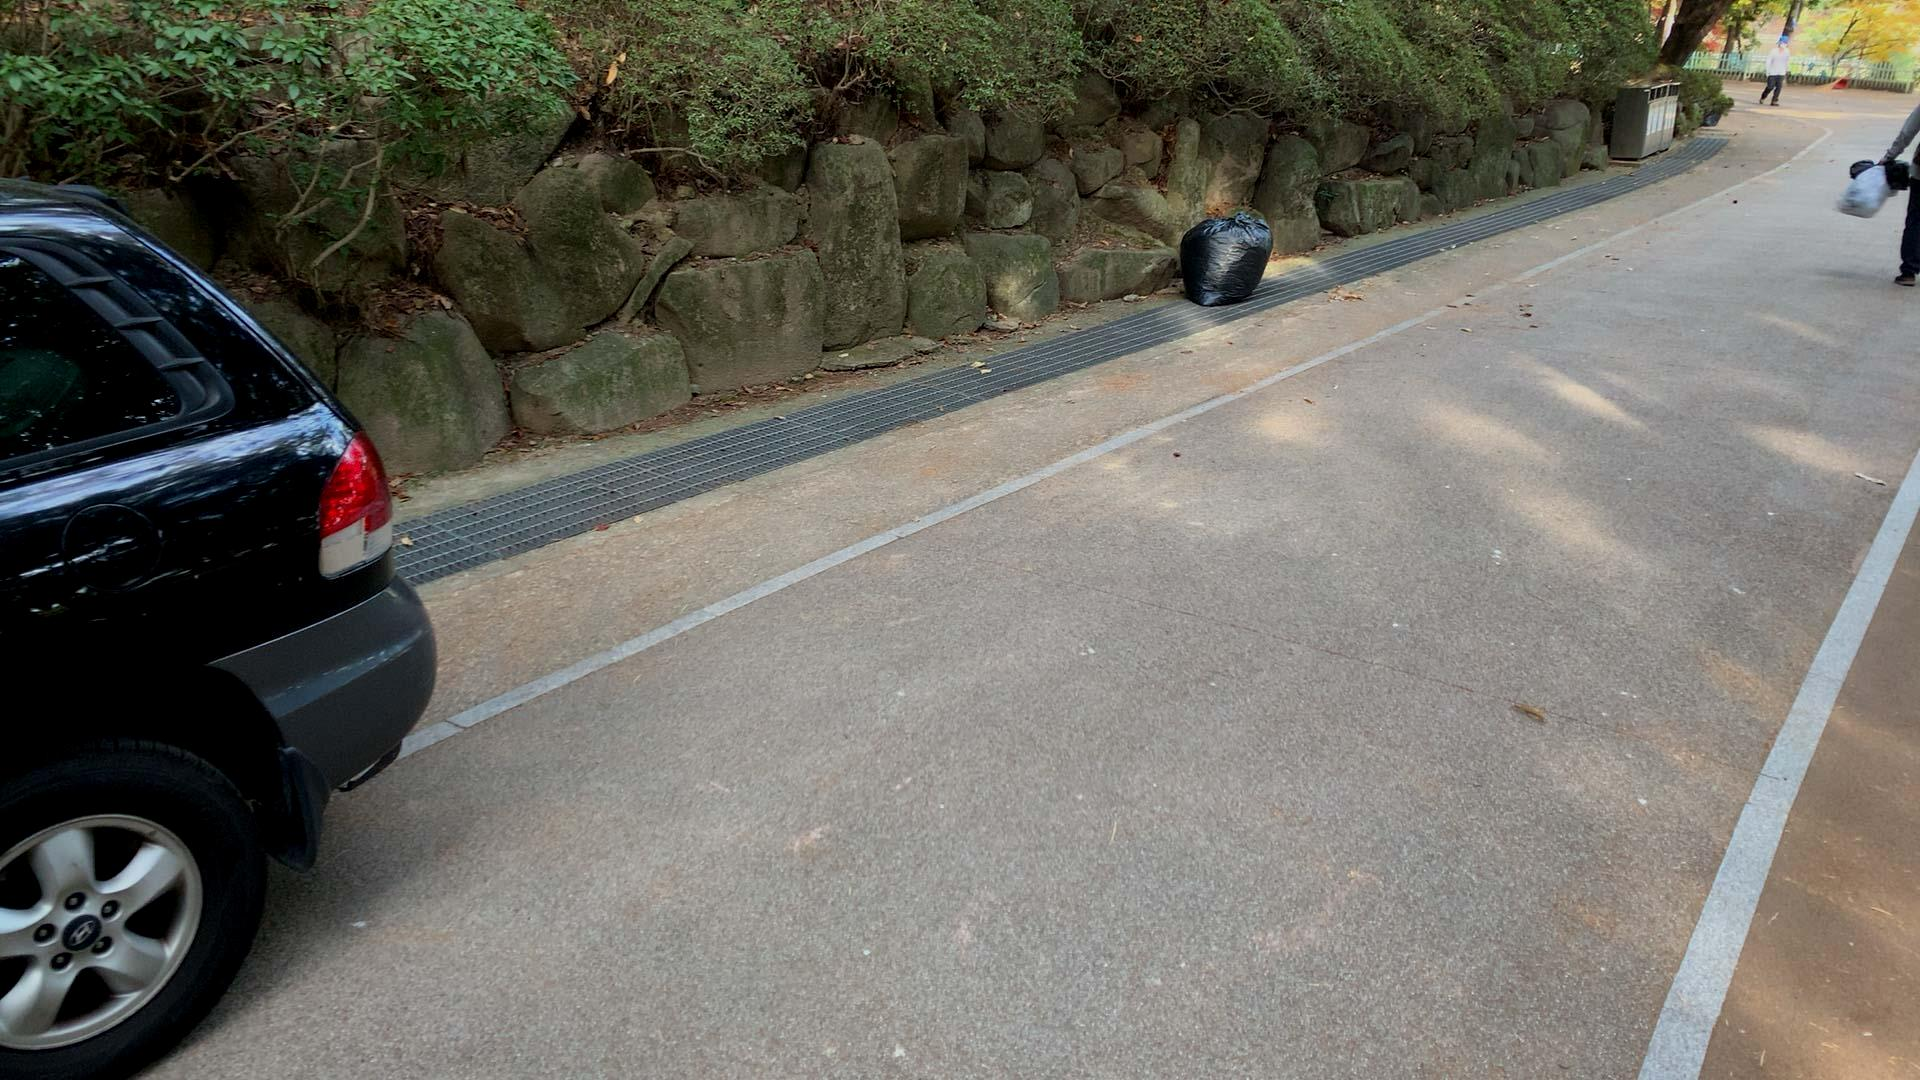black_bag: (1176, 200, 1275, 311)
